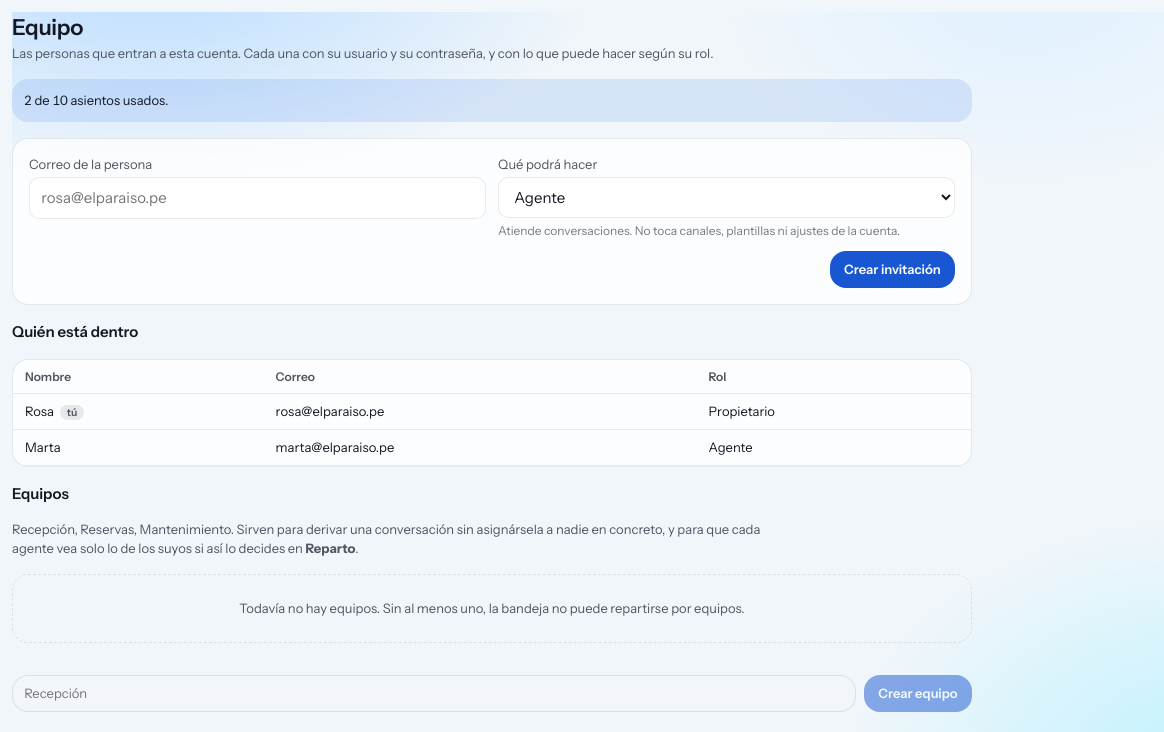
Scenario: Equipo › el enlace se ve entero y se avisa de que no se repite
Expected: the text "Rosa" is shown, [25,403,54,419]
In the field labelled "Correo de la persona": [258, 198] box [29,177,486,219], type "nuevo@elparaiso.pe"
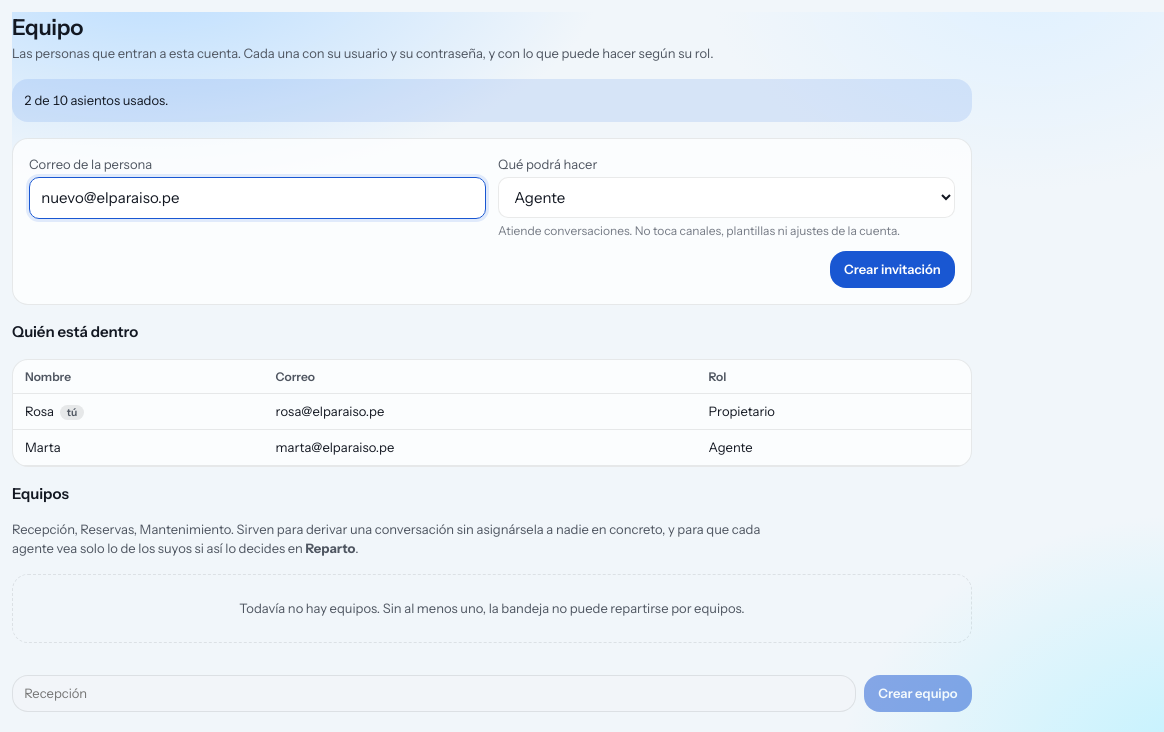
Click the button "Crear invitación": [892, 270] box [830,251,955,288]
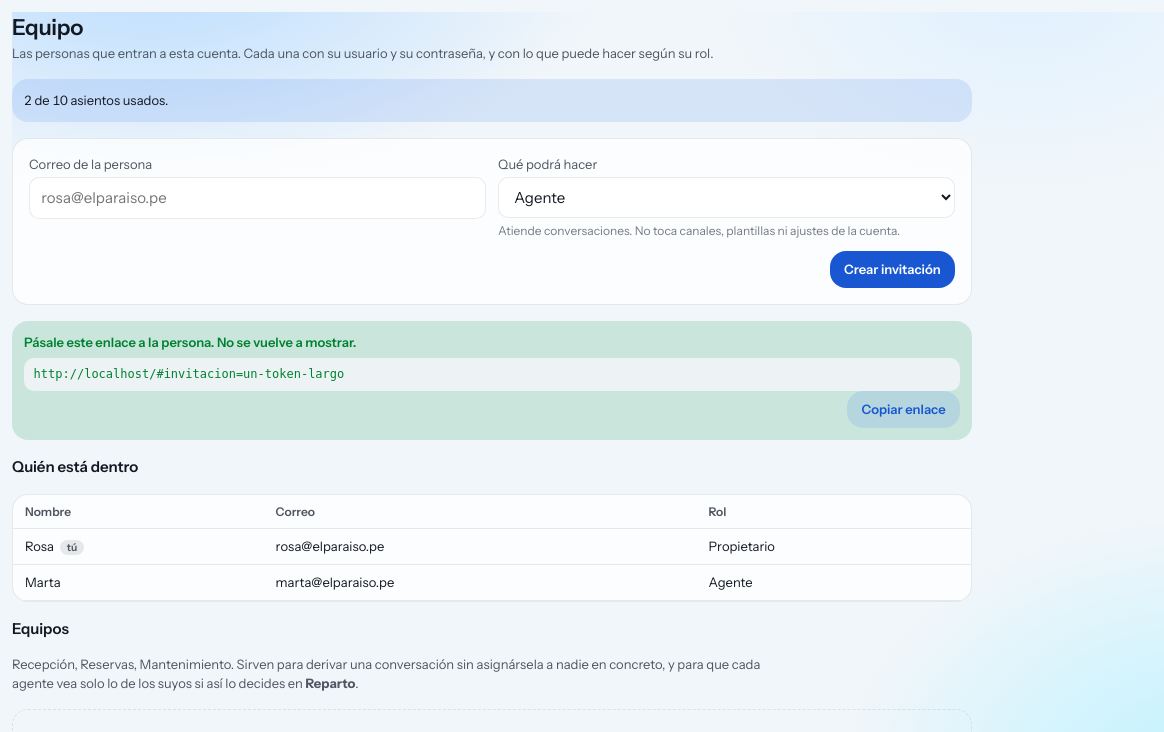
Expected: the text "Pásale este enlace a la persona. No se vuelve a mostrar." is shown, [24,334,356,350]
Expected: the text "http://localhost/#invitacion=un-token-largo" is shown, [24,358,960,392]
